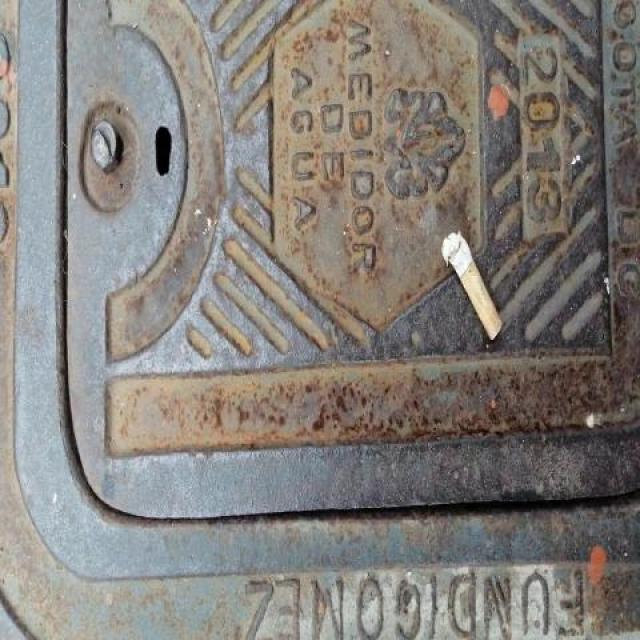non-organic waste: (438, 225, 506, 346)
